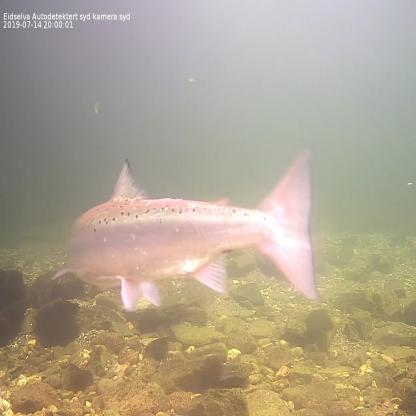salmon: (49, 143, 322, 314)
